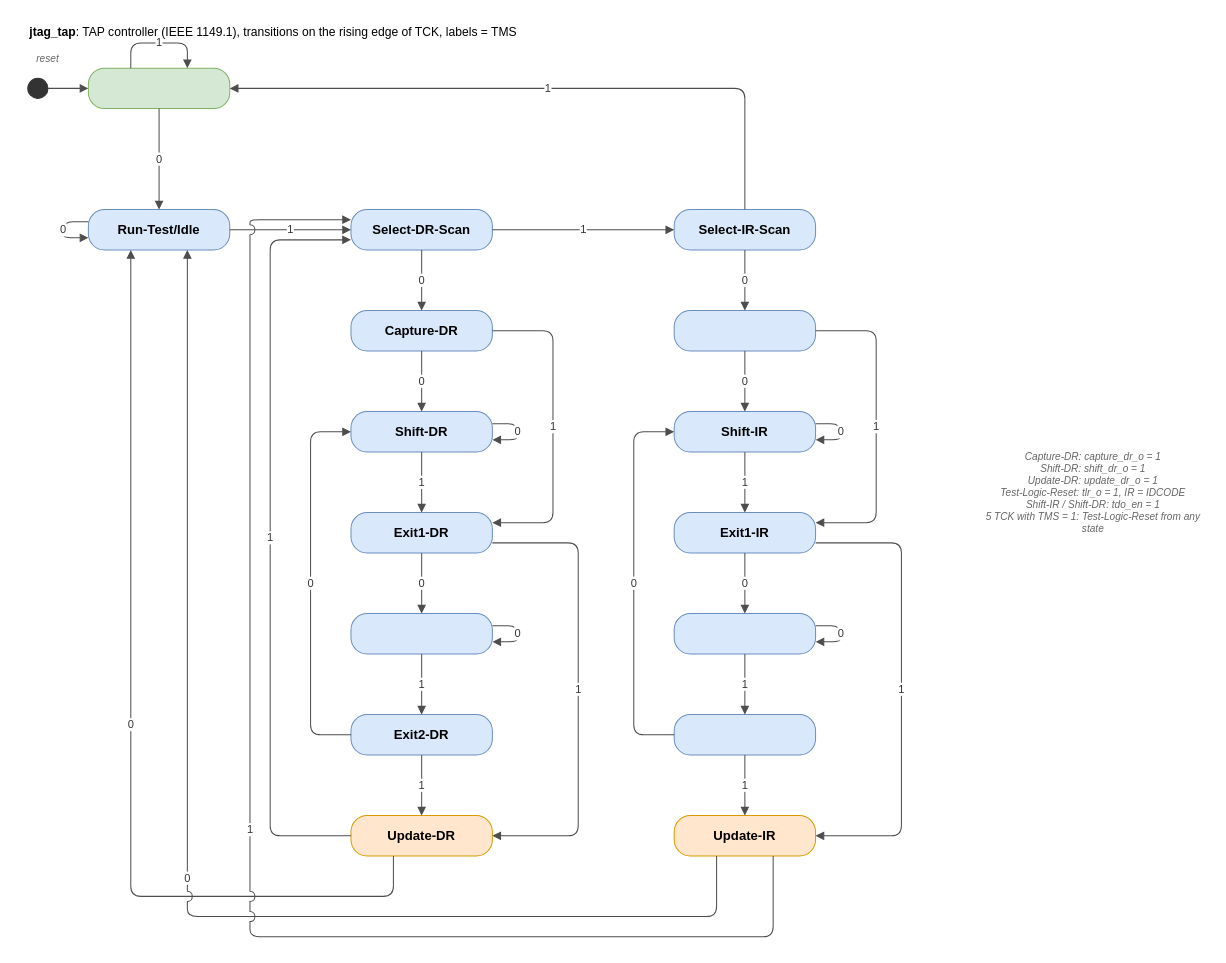
Image size: 1226x963. Some labels were removed from this diagram. Here are the shapes that lost their labels. From the top down, the centre of each, then its label:
point (158, 88): Test-Logic-Reset
point (744, 330): Capture-IR
point (421, 633): Pause-DR
point (744, 633): Pause-IR
point (744, 734): Exit2-IR
